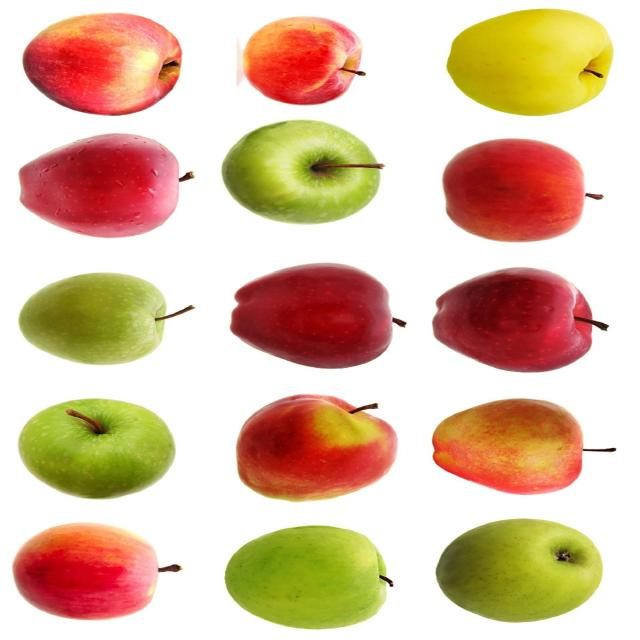Green Apple: (74, 521, 613, 635), (16, 272, 200, 368), (18, 396, 181, 501), (222, 120, 385, 225)
Red Apple: (67, 264, 613, 373), (432, 267, 613, 374), (229, 264, 411, 370), (220, 524, 396, 630), (446, 8, 615, 118), (17, 133, 190, 240), (234, 393, 402, 502), (434, 519, 605, 624), (12, 522, 187, 621), (443, 138, 606, 244), (23, 13, 185, 117), (432, 397, 586, 496), (241, 15, 366, 107)
